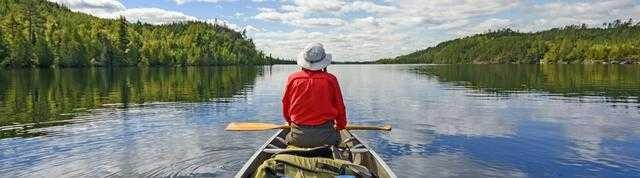kayak: (227, 123, 399, 178)
